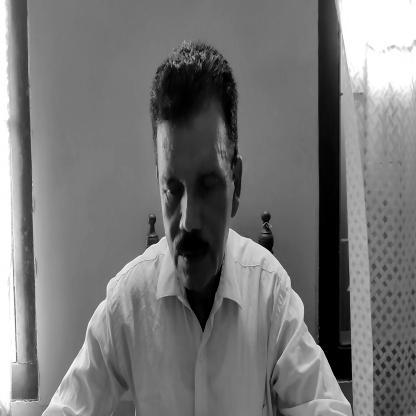Normal: (152, 53, 240, 292)
